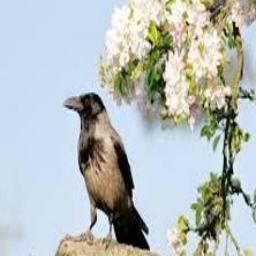Crow: (66, 92, 151, 246)
